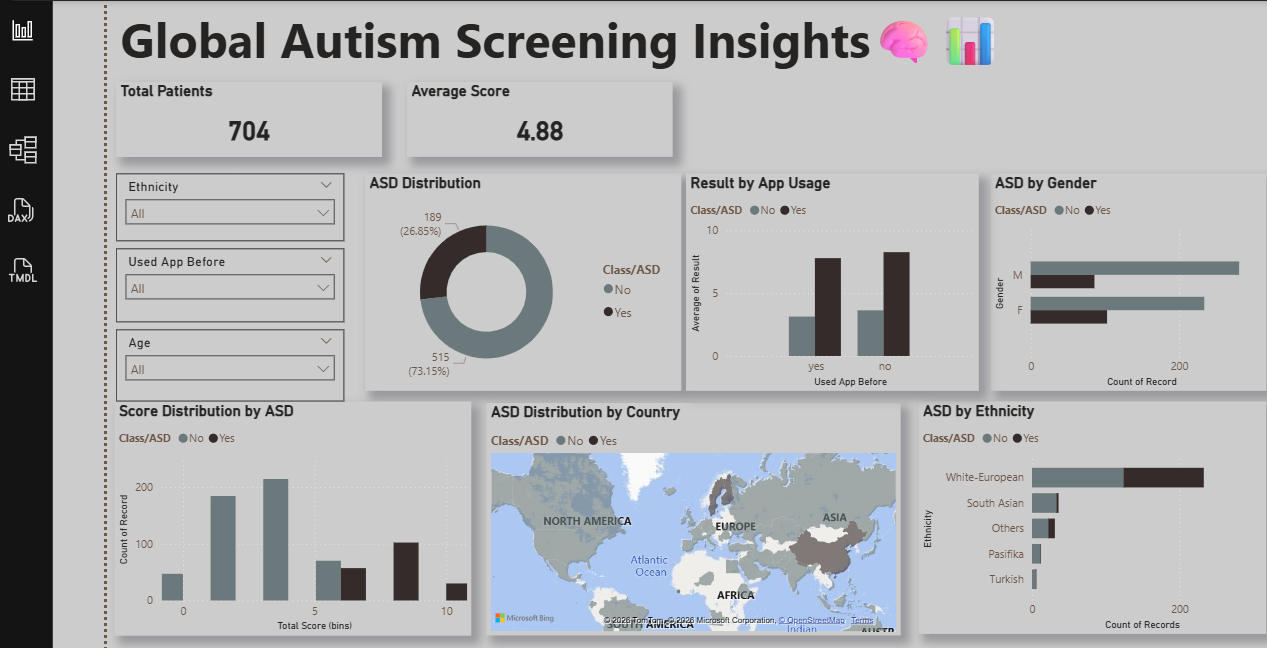

Layout of this report page (visuals, bound fields, positions):
{"tool":"powerbi","page":{"name":"Page 1","canvas":[1280,720],"ordinal":0},"visuals":[{"type":"textbox","box":[9.4,0,1145.2,88.8],"z":0},{"type":"donutChart","title":"ASD Distribution","fields":{"Category":["Autism (2).Class/ASD"],"Y":["CountNonNull(Autism (2).Age)"]},"box":[284.9,190.5,349.5,240.2],"z":1000},{"type":"clusteredColumnChart","title":"Score Distribution by ASD","fields":{"Category":["Autism (2).DAX Total Score (bins)"],"Y":["CountNonNull(Autism (2).Age)"],"Series":["Autism (2).Class/ASD"]},"box":[8.3,442.3,394.2,258.4],"z":2000},{"type":"clusteredBarChart","title":"ASD by Gender","fields":{"Y":["CountNonNull(Autism (2).Age)"],"Category":["Autism (2).Gender"],"Series":["Autism (2).Class/ASD"]},"box":[975.7,190.5,304.8,240.2],"z":3000},{"type":"barChart","title":"ASD by Ethnicity","fields":{"Category":["Autism (2).Ethnicity"],"Y":["CountNonNull(Autism (2).Age)"],"Series":["Autism (2).Class/ASD"]},"box":[896.2,442.3,384.3,256.8],"z":4000},{"type":"filledMap","title":"ASD Distribution by Country","fields":{"Category":["Autism (2).Country of Residence"],"Series":["Autism (2).Class/ASD"]},"box":[419.1,443.9,457.2,256.8],"z":5000},{"type":"clusteredColumnChart","title":"Result by App Usage","fields":{"Category":["Autism (2).Used App Before"],"Y":["Avg(Autism (2).Result)"],"Series":["Autism (2).Class/ASD"]},"box":[639.4,190.5,323,240.2],"z":6000},{"type":"card","title":"Total Patients","fields":{"Values":["CountNonNull(Autism (2).Gender)"]},"box":[9.9,89.4,293.2,82.8],"z":7000},{"type":"card","title":"Average Score","fields":{"Values":["Avg(Autism (2).DAX Total Score)"]},"box":[331.3,89.4,293.2,82.8],"z":8000},{"type":"slicer","fields":{"Values":["Autism (2).Ethnicity"]},"box":[9.9,190.5,251.8,74.5],"z":9000},{"type":"slicer","fields":{"Values":["Autism (2).Used App Before"]},"box":[9.9,273.3,251.8,81.2],"z":10000},{"type":"slicer","fields":{"Values":["Autism (2).Age"]},"box":[9.9,362.8,251.8,79.5],"z":11000}]}

Visuals, with their boxes on the page's 1280x720 design canvas (x1, y1, x2, y2). These are canvas units, not pixel positions in the 1267x648 screenshot, which may show the page scaled, cropped or inside an application window:
textbox: 9, 0, 1155, 89
"ASD Distribution" donutChart: 285, 190, 634, 431
"Score Distribution by ASD" clusteredColumnChart: 8, 442, 402, 701
"ASD by Gender" clusteredBarChart: 976, 190, 1280, 431
"ASD by Ethnicity" barChart: 896, 442, 1280, 699
"ASD Distribution by Country" filledMap: 419, 444, 876, 701
"Result by App Usage" clusteredColumnChart: 639, 190, 962, 431
"Total Patients" card: 10, 89, 303, 172
"Average Score" card: 331, 89, 624, 172
slicer - Autism (2).Ethnicity: 10, 190, 262, 265
slicer - Autism (2).Used App Before: 10, 273, 262, 354
slicer - Autism (2).Age: 10, 363, 262, 442
